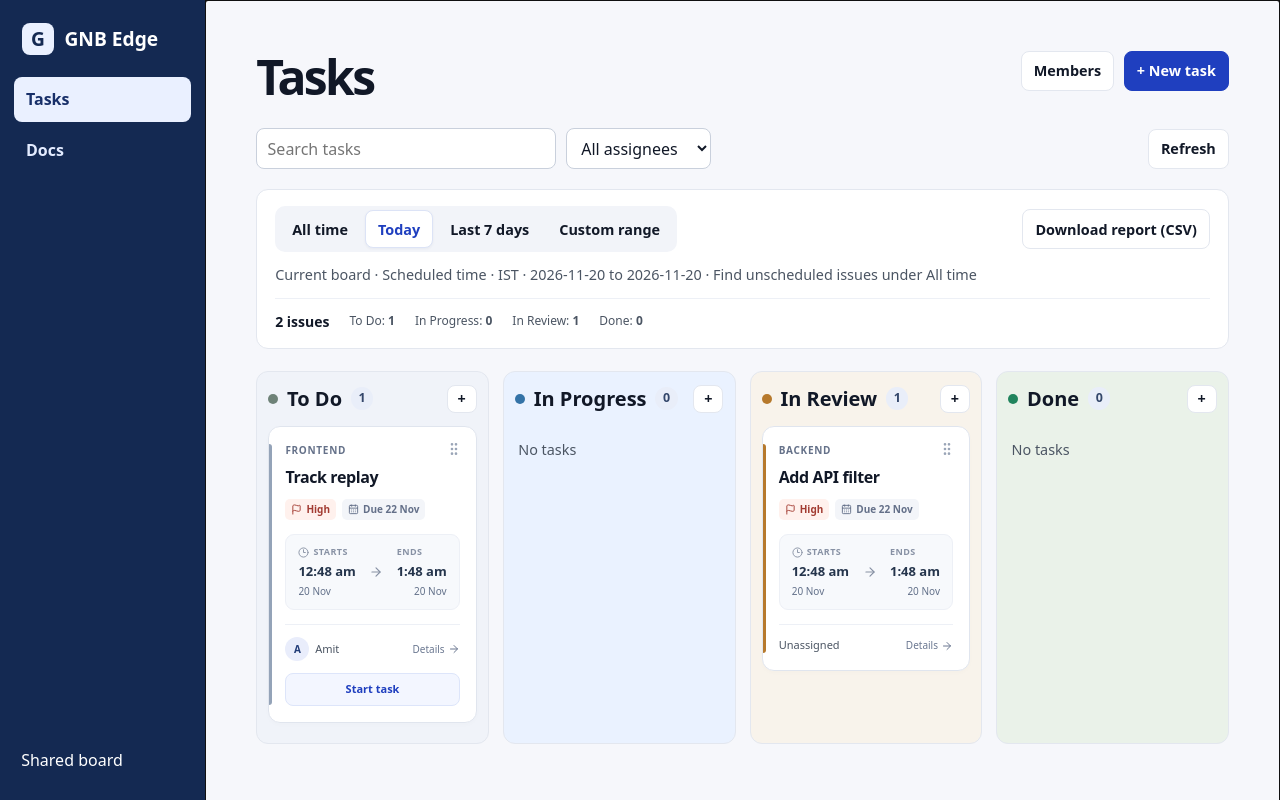
Test case: Existing board workflows in React › composes task search with assignee filtering and restores cards when cleared
Expected: the heading "Track replay" is shown, 285,466 -> 378,488
Type "api" into the search field at (406, 149), box 256,128 -> 556,169
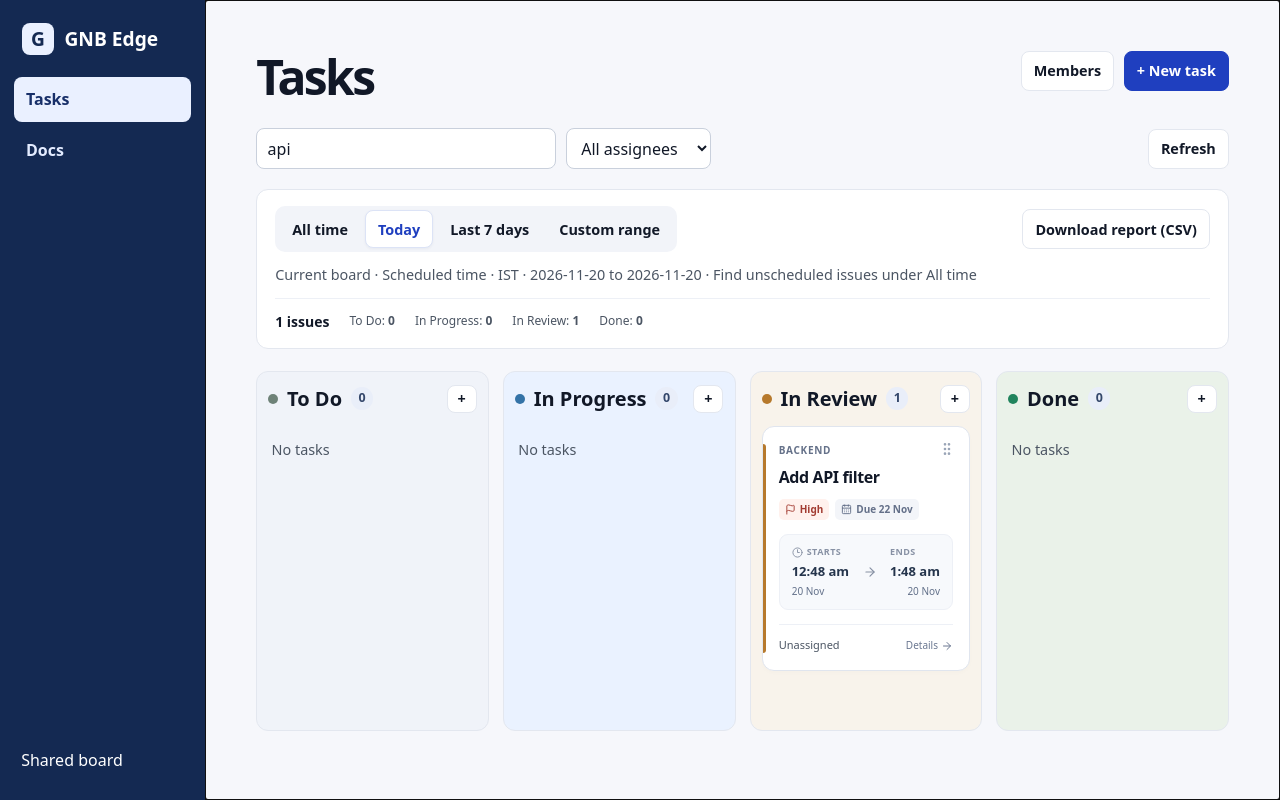
Expected: the heading "Add API filter" is shown, 779,466 -> 880,488
Expected: the link "Track replay" is gone
Select "Amit" in the dropdown named "Filter by assignee" at (638, 149), box 566,128 -> 711,169
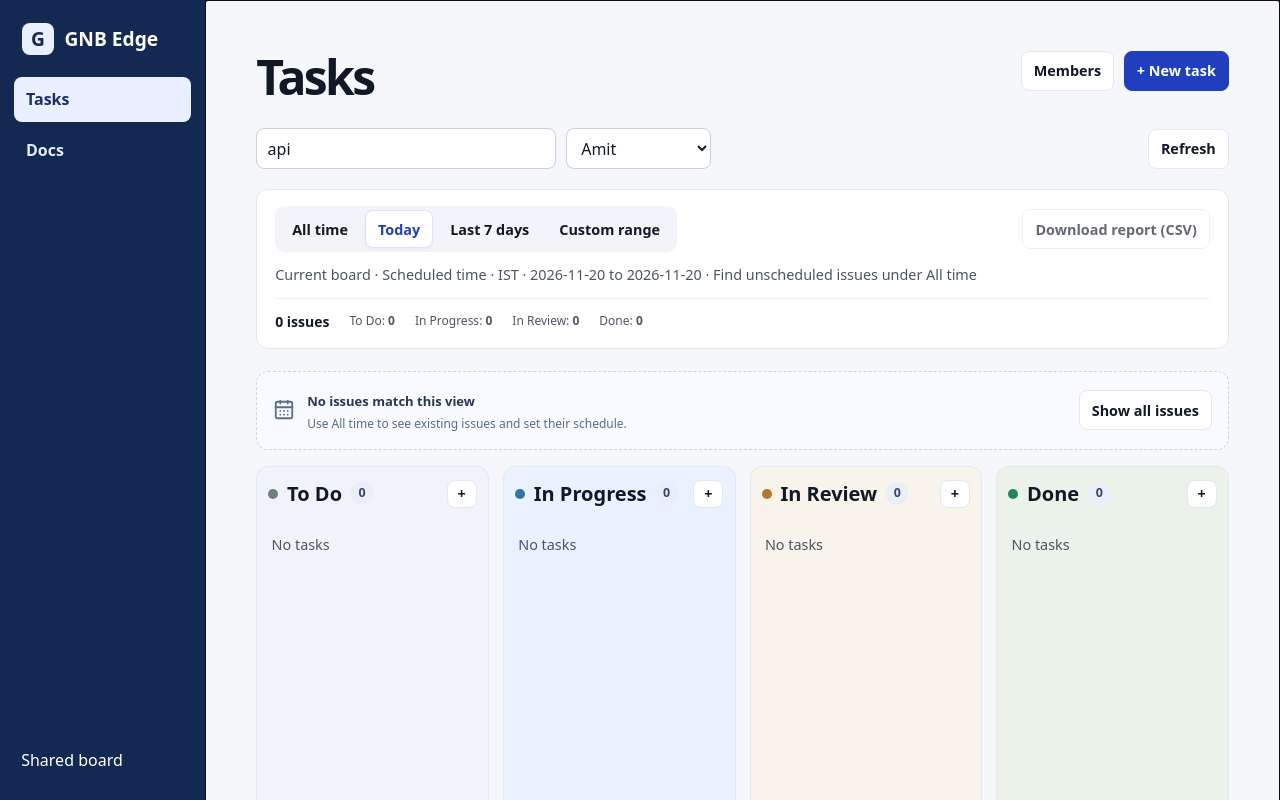
Expected: the link "Add API filter" is gone
Clear the search field at (406, 149), box 256,128 -> 556,169
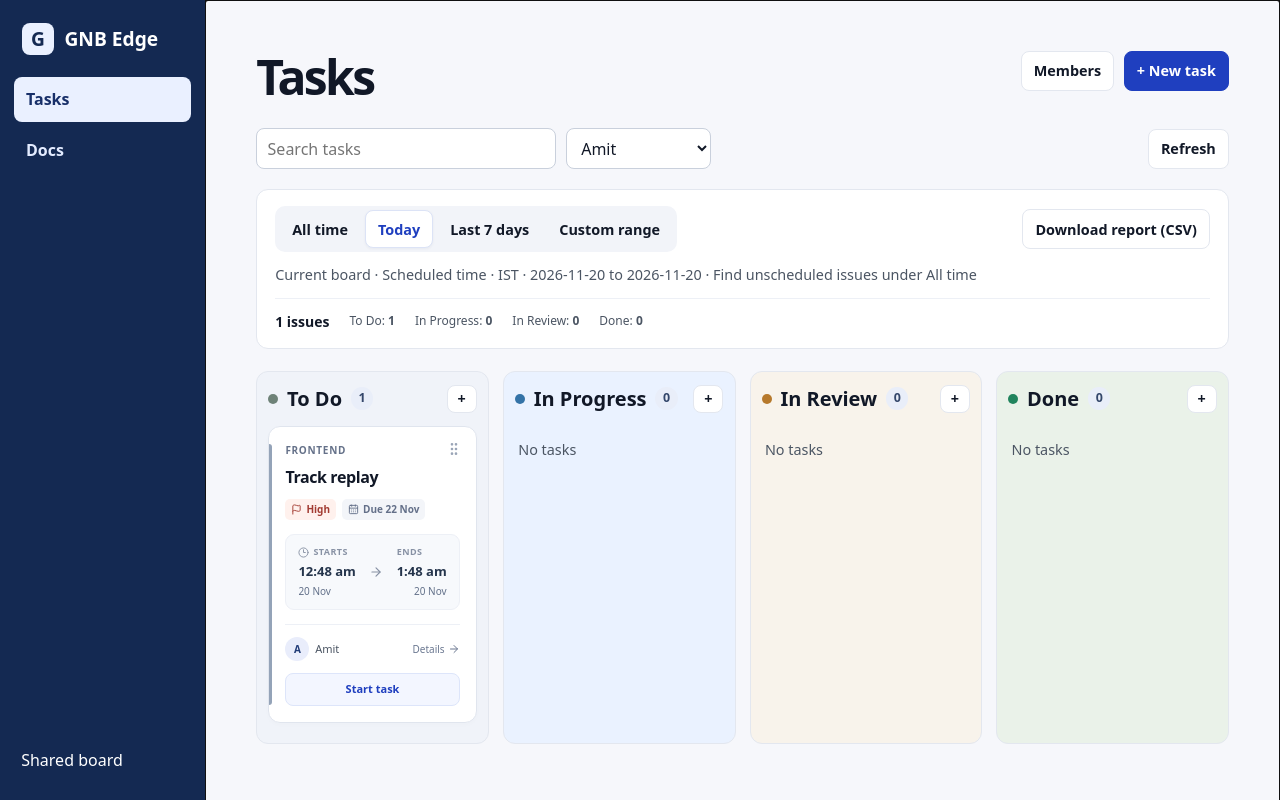
Expected: the heading "Track replay" is shown, 285,466 -> 378,488
Select "All assignees" in the dropdown named "Filter by assignee" at (638, 149), box 566,128 -> 711,169
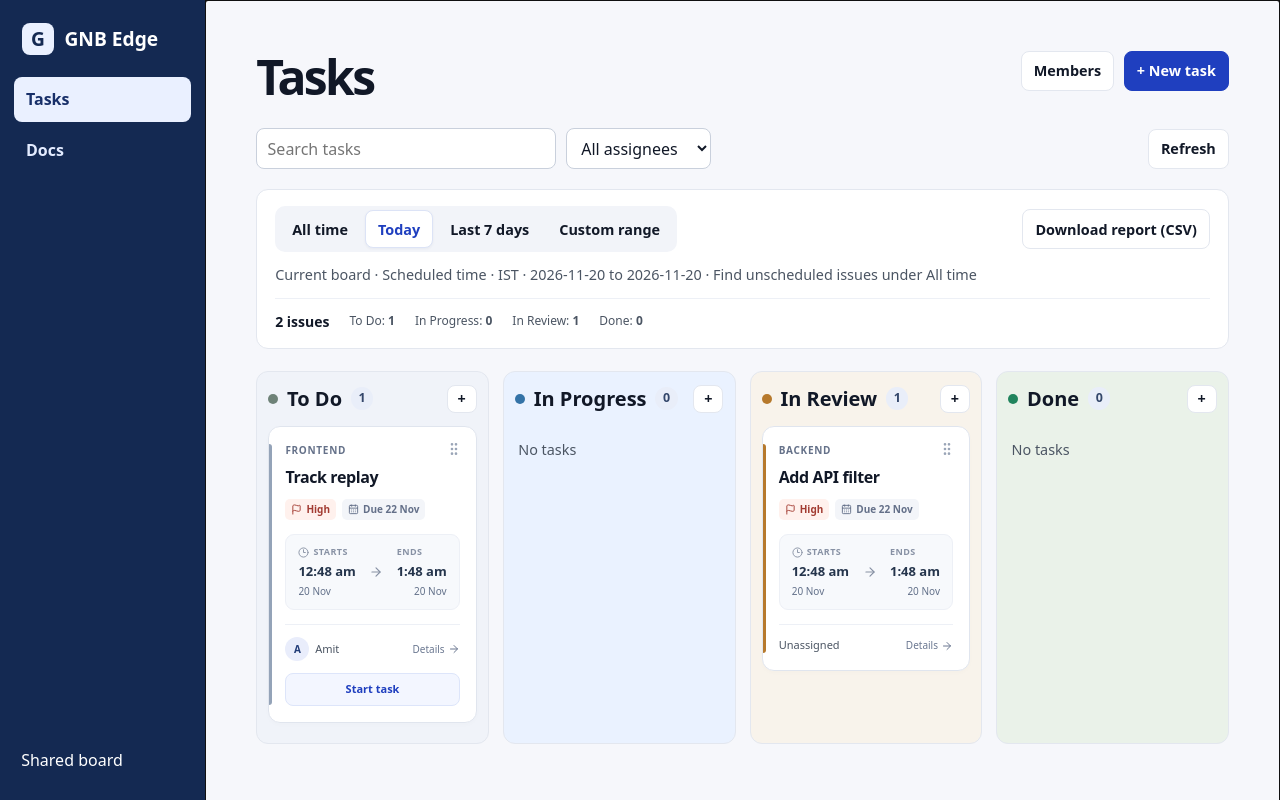
Expected: the heading "Add API filter" is shown, 779,466 -> 880,488
